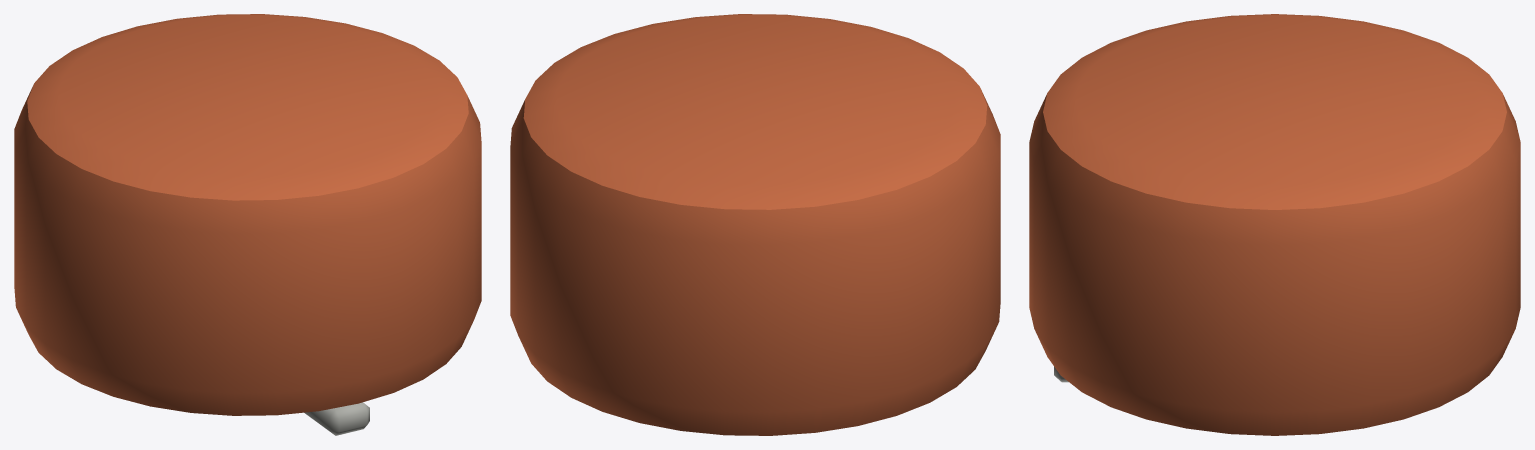
The model's file is portable_inverter_welder_current_knob.glb.
3 views of the same model, side by side, from view 1: azimuth 30°, elevation 25°; view 2: azimuth 150°, elevation 25°; view 3: azimuth 270°, elevation 25° (orthographic). The views are drawn at different scales.
Parts seen in each view (by area): view 1: portable_inverter_welder_current_knob; view 2: portable_inverter_welder_current_knob; view 3: portable_inverter_welder_current_knob.
Boxes of the visible parts, <box> form: portable_inverter_welder_current_knob: <box>14,14,481,435</box>; portable_inverter_welder_current_knob: <box>510,14,1000,435</box>; portable_inverter_welder_current_knob: <box>1029,14,1520,435</box>.
Size of the model in its own units: 0.032 by 0.0198 by 0.032.
